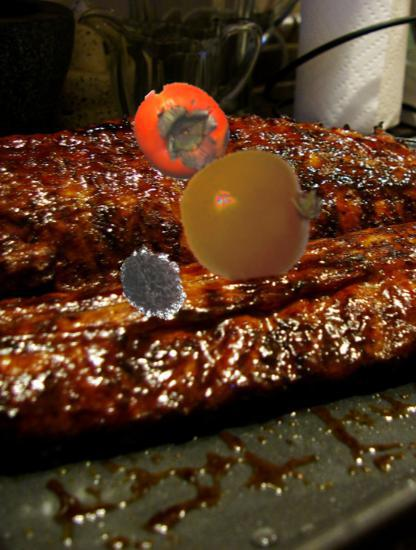Kaki: (132, 81, 231, 180)
Physalis: (179, 140, 327, 288)
Rambutan: (117, 248, 189, 320)
